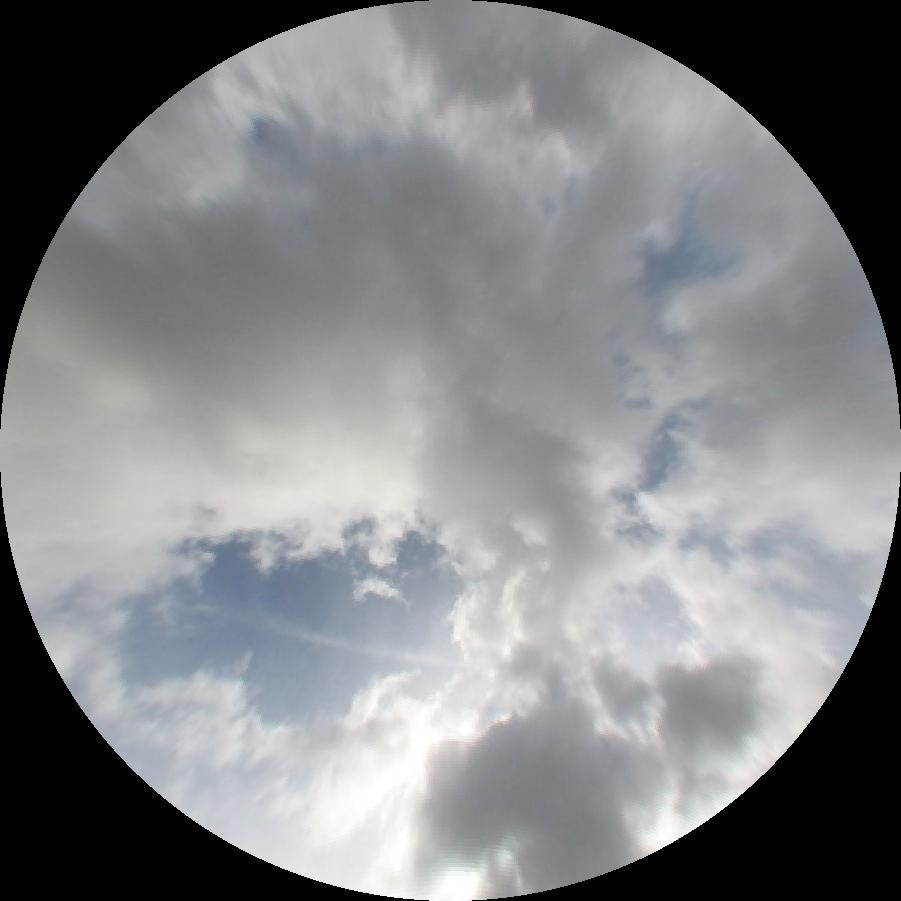contrail veryold: (250, 623, 458, 671)
